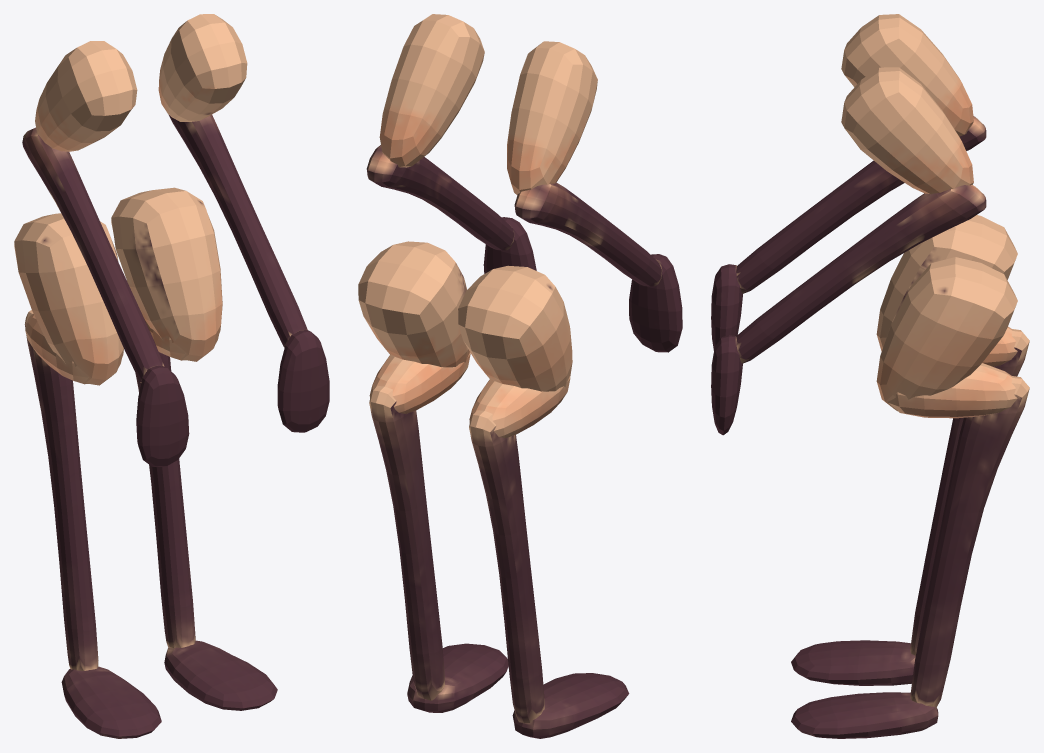
Rendered from YingletLimbs.fbx.
3 renders of one model, left to right at view 1: azimuth 30°, elevation 25°; view 2: azimuth 150°, elevation 25°; view 3: azimuth 270°, elevation 25°, orthographic. The views are drawn at different scales.
Visible parts, largest first — view 1: YingletLimbs; view 2: YingletLimbs; view 3: YingletLimbs.
Boxes of the visible parts, left/top/right/bottom form: YingletLimbs: left=14, top=14, right=329, bottom=738; YingletLimbs: left=358, top=14, right=682, bottom=738; YingletLimbs: left=711, top=14, right=1029, bottom=738.
Size of the model in its own units: 0.2093 by 0.6969 by 0.3052.
